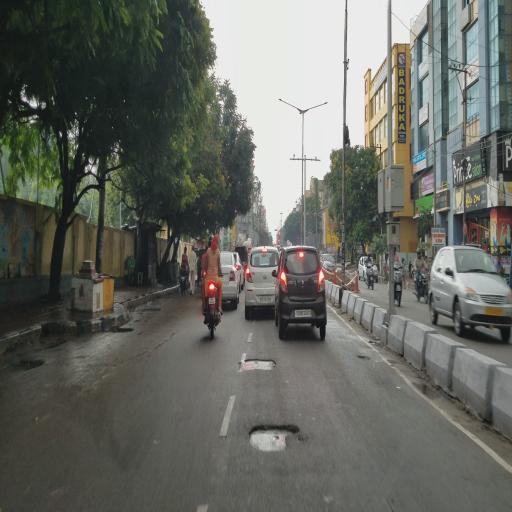street_light_0: (272, 90, 302, 118), (301, 95, 330, 123)
